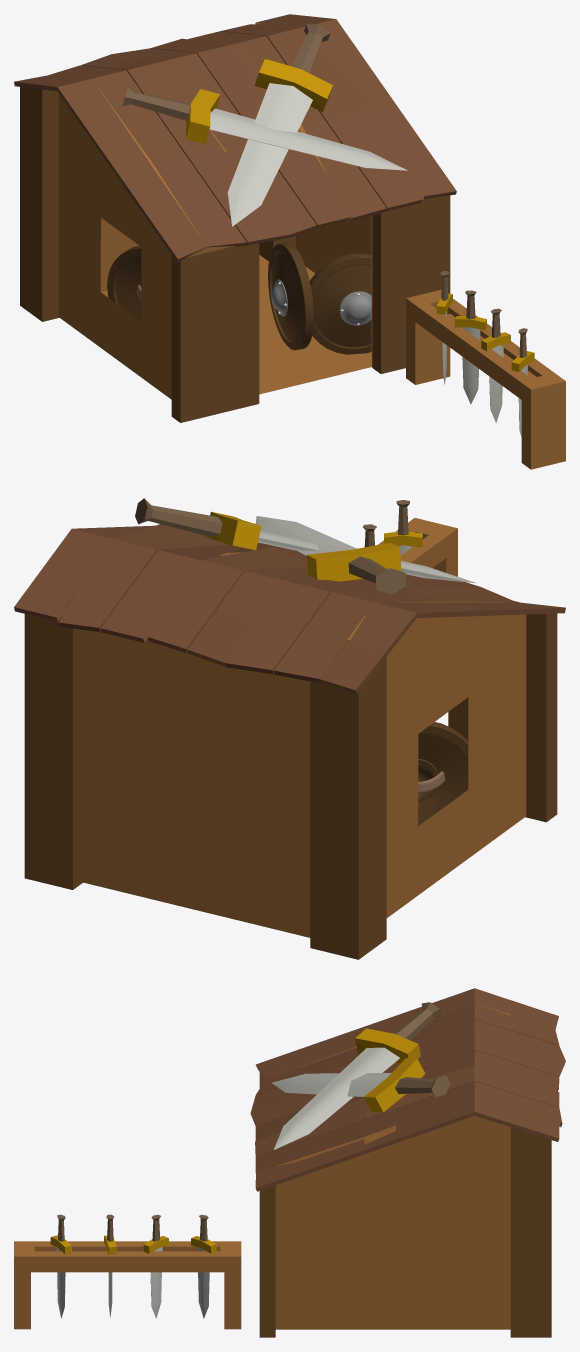
Rendered from barrack.fbx.
3 renders of one model, top to bottom at view 1: azimuth 30°, elevation 25°; view 2: azimuth 150°, elevation 25°; view 3: azimuth 270°, elevation 25°, orthographic. The views are drawn at different scales.
Parts seen in each view (by area): view 1: barrack; view 2: barrack; view 3: barrack.
Boxes of the visible parts, <box> form: barrack: <box>14,14,565,469</box>; barrack: <box>14,498,565,959</box>; barrack: <box>14,988,565,1337</box>.
Size of the model in its own units: 346 by 319 by 652.
